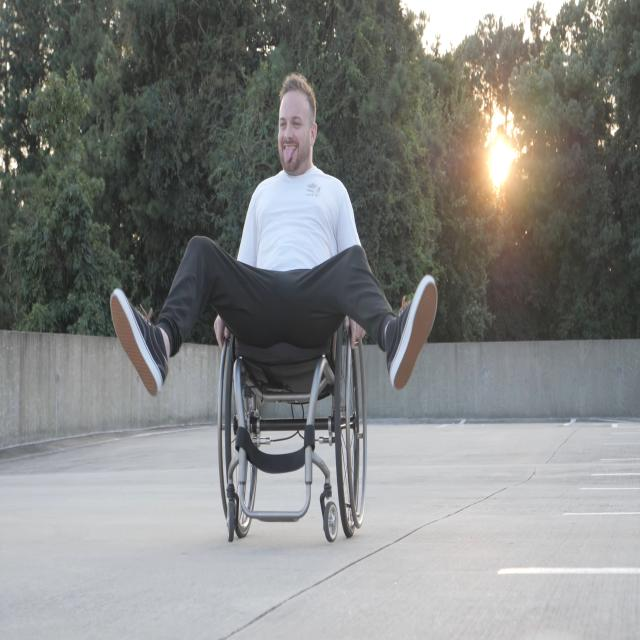wheelchairs: (211, 277, 375, 562)
